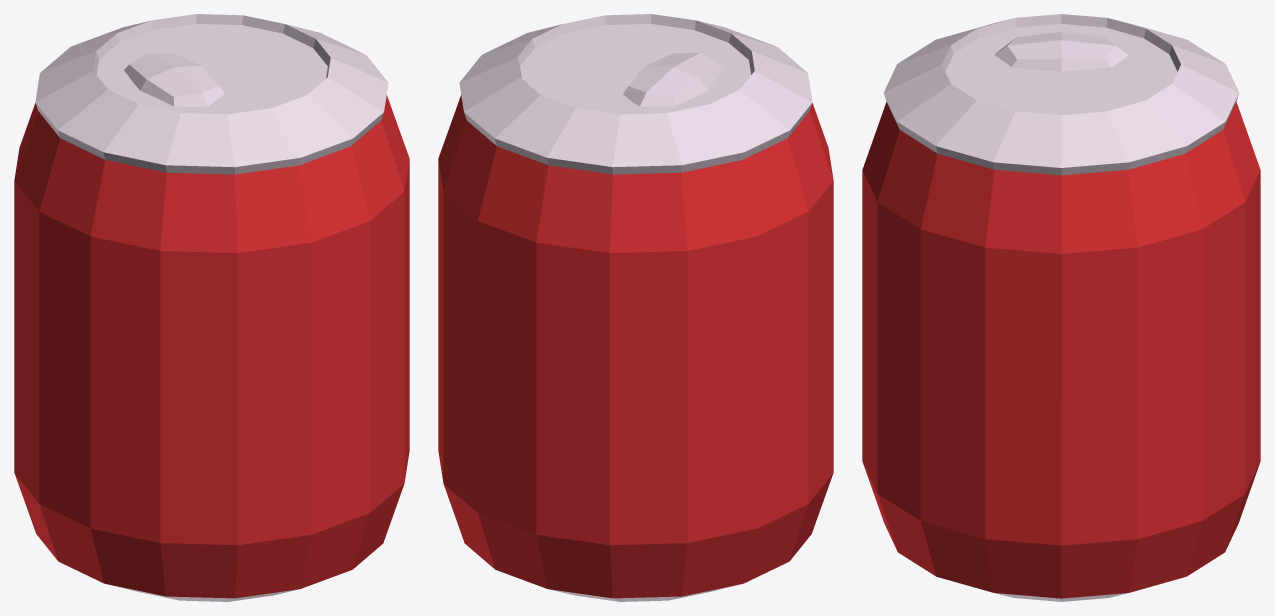
File: soda-can.fbx
3 views of the same model, side by side, from view 1: azimuth 30°, elevation 25°; view 2: azimuth 150°, elevation 25°; view 3: azimuth 270°, elevation 25° (orthographic).
Visible parts, largest first — view 1: Soda-can; view 2: Soda-can; view 3: Soda-can.
Part boxes in pixels (x1,y1,x2,y2): Soda-can: (14,14,409,601); Soda-can: (438,14,833,601); Soda-can: (862,14,1260,601).
Size of the model in its own units: 88.57 by 121 by 88.57.
